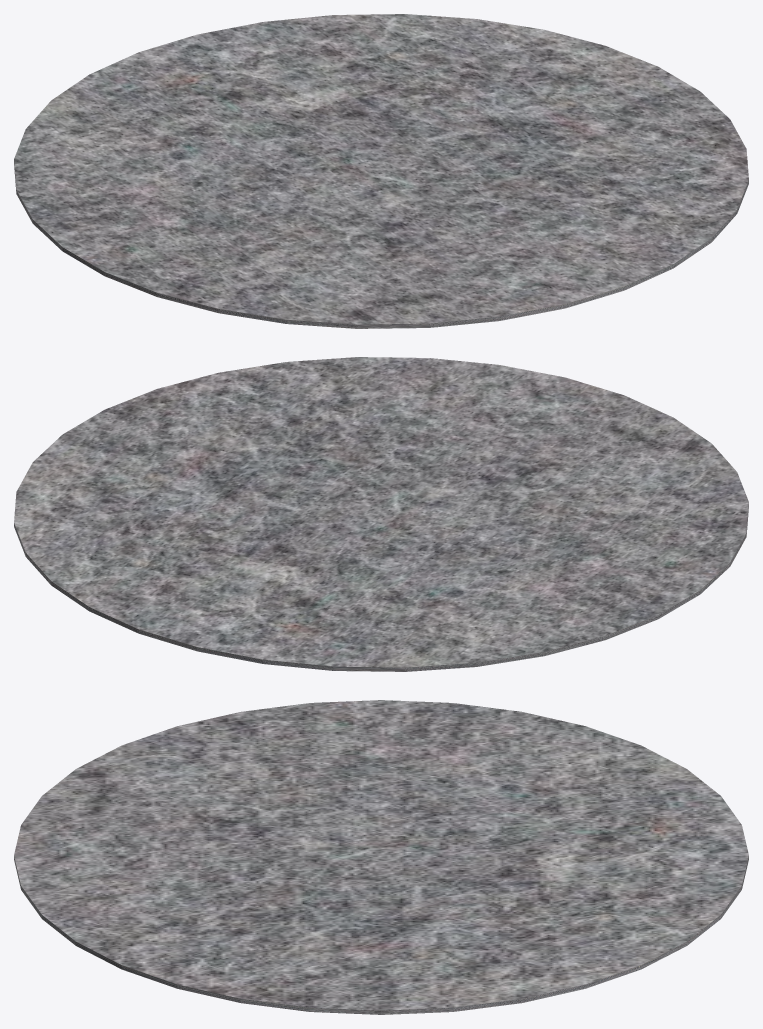
Rendered from filter.glb.
The picture shows the model from 3 angles, top to bottom: view 1: azimuth 30°, elevation 25°; view 2: azimuth 150°, elevation 25°; view 3: azimuth 270°, elevation 25°; orthographic projection.
Parts seen in each view (by area): view 1: Filter; view 2: Filter; view 3: Filter.
Boxes of the visible parts, x1,y1,x2,y2 form: Filter: (14,14,748,328); Filter: (14,357,748,671); Filter: (14,700,748,1014).
Bounding box in the file's own units: 0.2182 × 0.00142 × 0.2182.
1 material, 1 textured.
